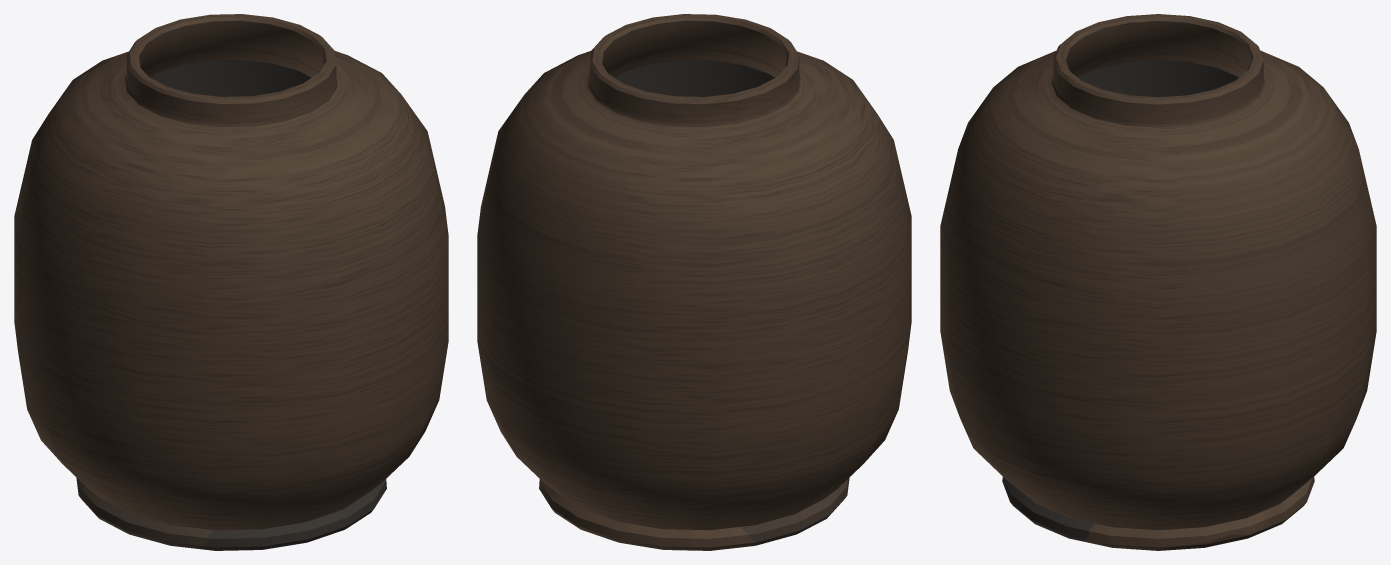
The model's file is pottery_04.fbx.
The picture shows the model from 3 angles, left to right: view 1: azimuth 30°, elevation 25°; view 2: azimuth 150°, elevation 25°; view 3: azimuth 270°, elevation 25°; orthographic projection.
Visible parts, largest first — view 1: pottery_04; view 2: pottery_04; view 3: pottery_04.
Part boxes in pixels (box(x1,y1,x2,y2)): pottery_04: box(14, 14, 448, 550); pottery_04: box(477, 14, 911, 550); pottery_04: box(940, 14, 1376, 550).
Size of the model in its own units: 35.59 by 38.82 by 35.59.
Materials: 1 (1 with a texture image).
